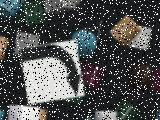Right: (20, 40, 84, 104)
